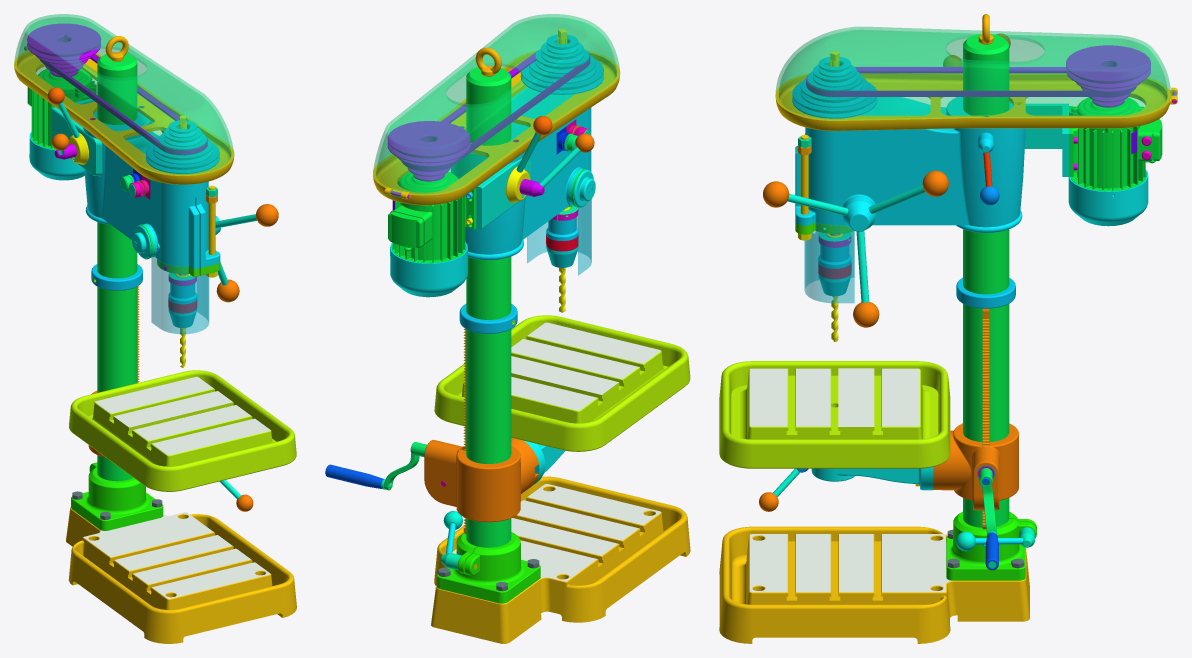
The model's file is drilling_machine.glb.
3 views of the same model, side by side, from view 1: azimuth 30°, elevation 25°; view 2: azimuth 150°, elevation 25°; view 3: azimuth 270°, elevation 25° (orthographic). The views are drawn at different scales.
Visible parts, largest first — view 1: Bottom_Tray, Fastening_Tray, Belt_Cover, Pillar, Head_Body, Belt_Frame, Casing, Big_Bushing, Pulley, Pulley_1, AC-MOTOR_1, Belt (+10 smaller); view 2: Belt_Cover, Bottom_Tray, Fastening_Tray, Pillar, Head_Body, Worm_Gear_Box, Belt_Frame, AC-MOTOR_1, Big_Bushing, Pulley, Pulley_1, AC-MOTOR (+11 smaller); view 3: Belt_Cover, Bottom_Tray, Fastening_Tray, Head_Body, Pillar, Belt_Frame, AC-MOTOR_1, Worm_Gear_Box, Casing, Pulley, Big_Bushing, Pulley_1 (+10 smaller).
Boxes of the visible parts, x1,y1,x2,y2 form: Bottom_Tray: [66, 507, 296, 643]; Fastening_Tray: [69, 370, 296, 491]; Belt_Cover: [14, 14, 233, 175]; Pillar: [97, 52, 137, 481]; Head_Body: [83, 111, 220, 269]; Belt_Frame: [14, 46, 234, 184]; Casing: [151, 257, 209, 334]; Big_Bushing: [71, 462, 163, 530]; Pulley: [27, 23, 101, 77]; Pulley_1: [145, 120, 219, 173]; AC-MOTOR_1: [27, 69, 96, 149]; Belt: [40, 54, 207, 155]; Belt_Cover: [373, 14, 619, 197]; Bottom_Tray: [431, 476, 690, 643]; Fastening_Tray: [434, 315, 690, 451]; Pillar: [466, 66, 511, 547]; Head_Body: [450, 87, 591, 260]; Worm_Gear_Box: [424, 437, 538, 522]; Belt_Frame: [373, 51, 620, 205]; AC-MOTOR_1: [388, 171, 476, 263]; Big_Bushing: [437, 532, 540, 603]; Pulley: [387, 121, 470, 181]; Pulley_1: [520, 34, 603, 94]; AC-MOTOR: [390, 242, 467, 297]; Belt_Cover: [775, 27, 1177, 120]; Bottom_Tray: [719, 526, 1029, 643]; Fastening_Tray: [719, 361, 950, 468]; Head_Body: [795, 97, 1025, 232]; Pillar: [963, 34, 1009, 527]; Belt_Frame: [775, 73, 1177, 130]; AC-MOTOR_1: [1069, 97, 1162, 191]; Worm_Gear_Box: [933, 423, 1018, 510]; Casing: [804, 222, 854, 303]; Pulley: [1066, 45, 1150, 107]; Big_Bushing: [946, 511, 1036, 580]; Pulley_1: [792, 57, 877, 118].
Size of the model in its own units: 441 by 979 by 694.
